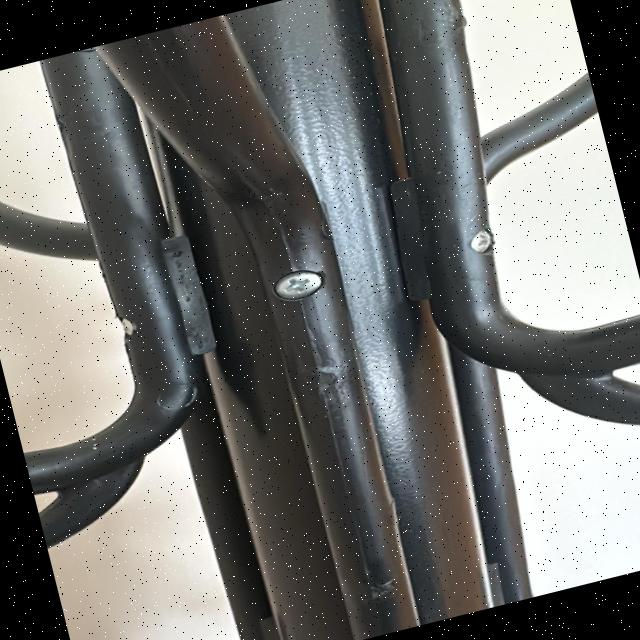Phillips: (456, 219, 504, 263), (275, 265, 327, 303)
